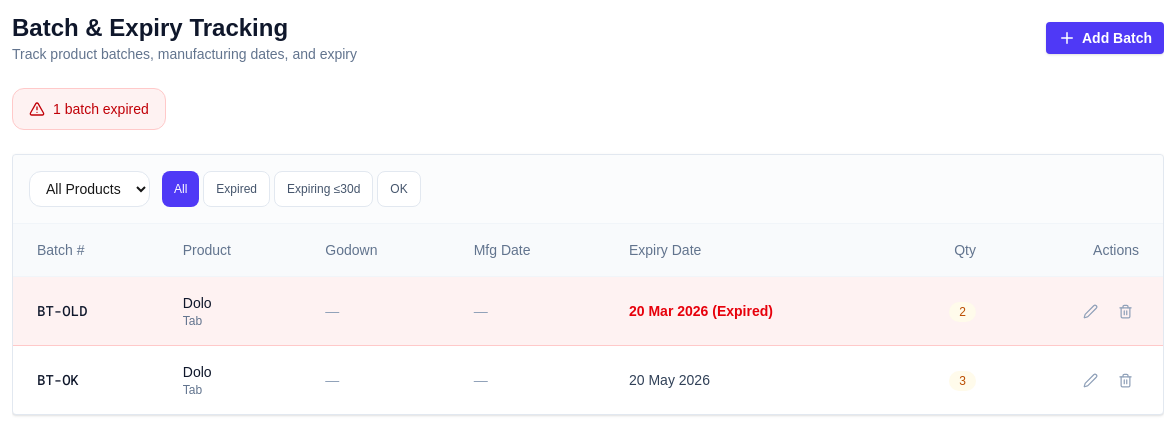
Test case: BatchesPage › filters to expired batches only
The width and height of the screenshot is (1176, 433).
Expected: the text "BT-OLD" is shown, [13,276,159,346]
Expected: the text "BT-OK" is shown, [13,346,159,414]
Step 1. Click the button "Expired" → coordinates (237, 189), box [203,171,270,207]
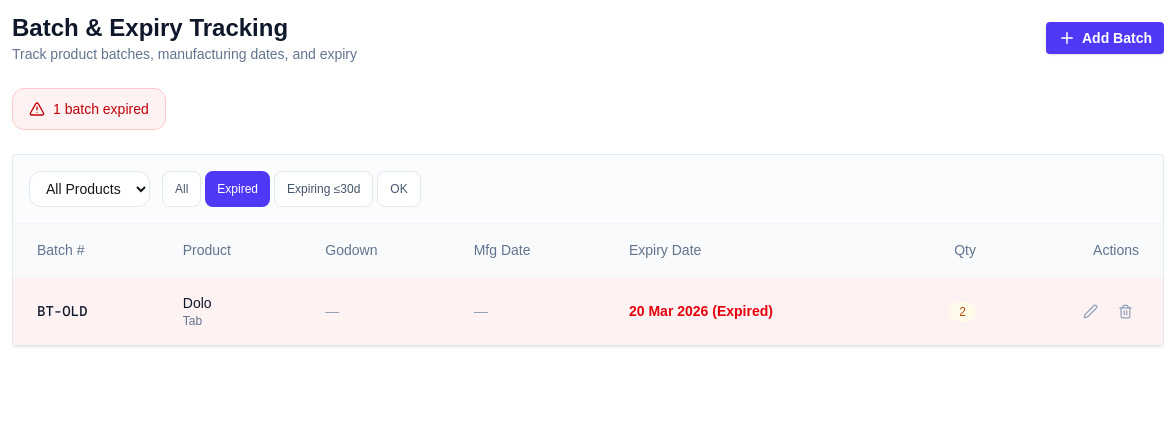
Expected: the text "BT-OLD" is shown, [13,276,159,345]
Expected: the text "BT-OK" is gone
